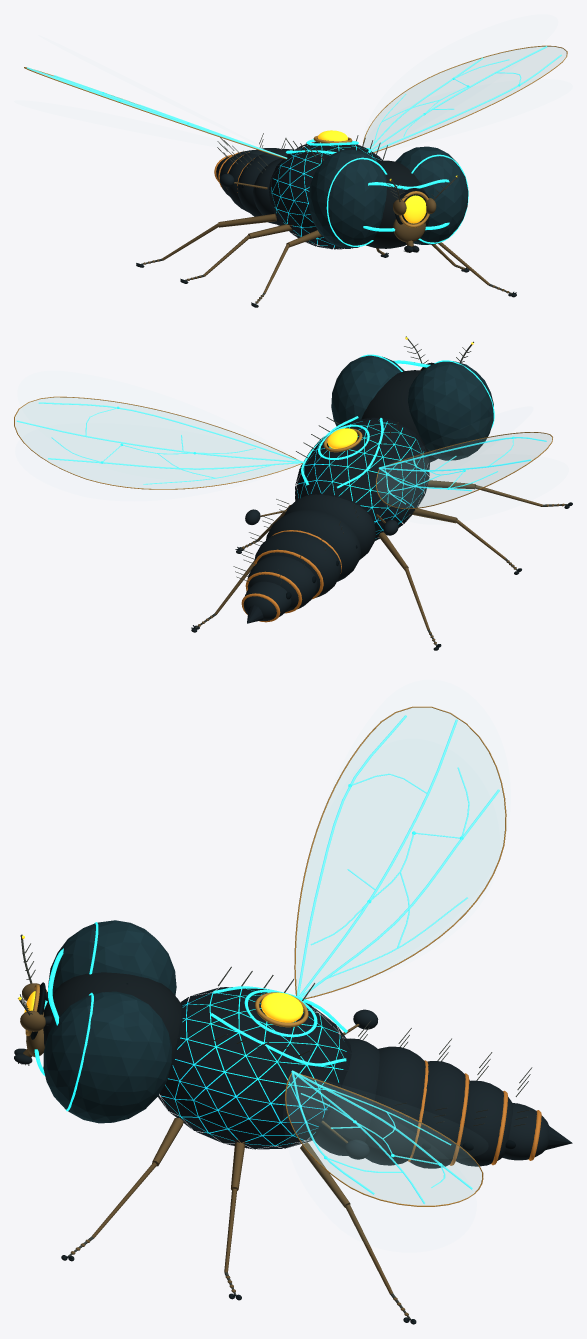
Rendered from mirror-gap-v4.2.0.glb.
3 renders of one model, top to bottom at view 1: azimuth 30°, elevation 25°; view 2: azimuth 150°, elevation 25°; view 3: azimuth 270°, elevation 25°, orthographic. The views are drawn at different scales.
Parts seen in each view (by area): view 1: Separate_head_Left_compound_eye_batch, Thin_wing_membrane, Faceted_obsidian_thorax, Horizontal_segmented_abdomen_Abdominal_segment_1_batch, Head_capsule, Right_single_membrane_wing_Cyan_neural_wing_vein_1_batch, Costal_wing_gold_edge (×2), Separate_head_Cyan_compound_eye_rim_batch, Left_single_membrane_wing_Cyan_neural_wing_vein_1_batch, Thorax_inner_cyan_fissures, Facial_amber_core, Face_and_clypeus (+1 smaller); view 2: Thin_wing_membrane (×2), Horizontal_segmented_abdomen_Abdominal_segment_1_batch, Separate_head_Left_compound_eye_batch, Faceted_obsidian_thorax, Right_single_membrane_wing_Cyan_neural_wing_vein_1_batch, Head_capsule, Thorax_inner_cyan_fissures, Costal_wing_gold_edge (×2), Left_single_membrane_wing_Cyan_neural_wing_vein_1_batch, Horizontal_segmented_abdomen_Amber_tergite_seam_1_batch, Thorax_pitch_and_bank_Dorsal_core_cyan_fissure_batch, Dorsal_amber_core; view 3: Thin_wing_membrane (×2), Faceted_obsidian_thorax, Separate_head_Left_compound_eye_batch, Horizontal_segmented_abdomen_Abdominal_segment_1_batch, Thorax_inner_cyan_fissures, Left_single_membrane_wing_Cyan_neural_wing_vein_1_batch, Head_capsule, Costal_wing_gold_edge (×2), Right_single_membrane_wing_Cyan_neural_wing_vein_1_batch, Thorax_pitch_and_bank_Dorsal_core_cyan_fissure_batch, Horizontal_segmented_abdomen_Amber_tergite_seam_1_batch, Separate_head_Cyan_compound_eye_rim_batch (+1 smaller).
Boxes of the visible parts, <box> form: Separate_head_Left_compound_eye_batch: <box>308,146,468,248</box>; Thin_wing_membrane: <box>364,46,566,150</box>; Faceted_obsidian_thorax: <box>269,141,382,249</box>; Horizontal_segmented_abdomen_Abdominal_segment_1_batch: <box>216,148,293,225</box>; Head_capsule: <box>366,160,429,248</box>; Right_single_membrane_wing_Cyan_neural_wing_vein_1_batch: <box>369,46,561,152</box>; Costal_wing_gold_edge (×2): <box>24,45,567,159</box>; Separate_head_Cyan_compound_eye_rim_batch: <box>326,154,468,246</box>; Left_single_membrane_wing_Cyan_neural_wing_vein_1_batch: <box>27,67,287,158</box>; Thorax_inner_cyan_fissures: <box>271,143,378,247</box>; Facial_amber_core: <box>403,195,426,223</box>; Face_and_clypeus: <box>393,218,425,242</box>; Thin_wing_membrane (×2): <box>15,398,551,507</box>; Horizontal_segmented_abdomen_Abdominal_segment_1_batch: <box>243,493,375,621</box>; Separate_head_Left_compound_eye_batch: <box>331,355,493,460</box>; Faceted_obsidian_thorax: <box>295,417,429,540</box>; Right_single_membrane_wing_Cyan_neural_wing_vein_1_batch: <box>16,402,303,484</box>; Head_capsule: <box>361,370,437,462</box>; Thorax_inner_cyan_fissures: <box>297,420,427,538</box>; Costal_wing_gold_edge (×2): <box>14,396,552,509</box>; Left_single_membrane_wing_Cyan_neural_wing_vein_1_batch: <box>378,437,546,504</box>; Horizontal_segmented_abdomen_Amber_tergite_seam_1_batch: <box>241,530,341,622</box>; Thorax_pitch_and_bank_Dorsal_core_cyan_fissure_batch: <box>301,416,383,488</box>; Dorsal_amber_core: <box>327,428,357,448</box>; Thin_wing_membrane (×2): <box>286,708,504,1205</box>; Faceted_obsidian_thorax: <box>158,987,351,1149</box>; Separate_head_Left_compound_eye_batch: <box>43,920,176,1123</box>; Horizontal_segmented_abdomen_Abdominal_segment_1_batch: <box>314,1038,549,1168</box>; Thorax_inner_cyan_fissures: <box>161,989,346,1146</box>; Left_single_membrane_wing_Cyan_neural_wing_vein_1_batch: <box>296,715,499,997</box>; Head_capsule: <box>43,972,182,1065</box>; Costal_wing_gold_edge (×2): <box>285,706,506,1206</box>; Right_single_membrane_wing_Cyan_neural_wing_vein_1_batch: <box>291,1070,472,1203</box>; Thorax_pitch_and_bank_Dorsal_core_cyan_fissure_batch: <box>210,986,347,1066</box>; Horizontal_segmented_abdomen_Amber_tergite_seam_1_batch: <box>408,1060,541,1165</box>; Separate_head_Cyan_compound_eye_rim_batch: <box>34,922,98,1111</box>.
Bounding box in the file's own units: 2.22 × 1.17 × 1.42.
